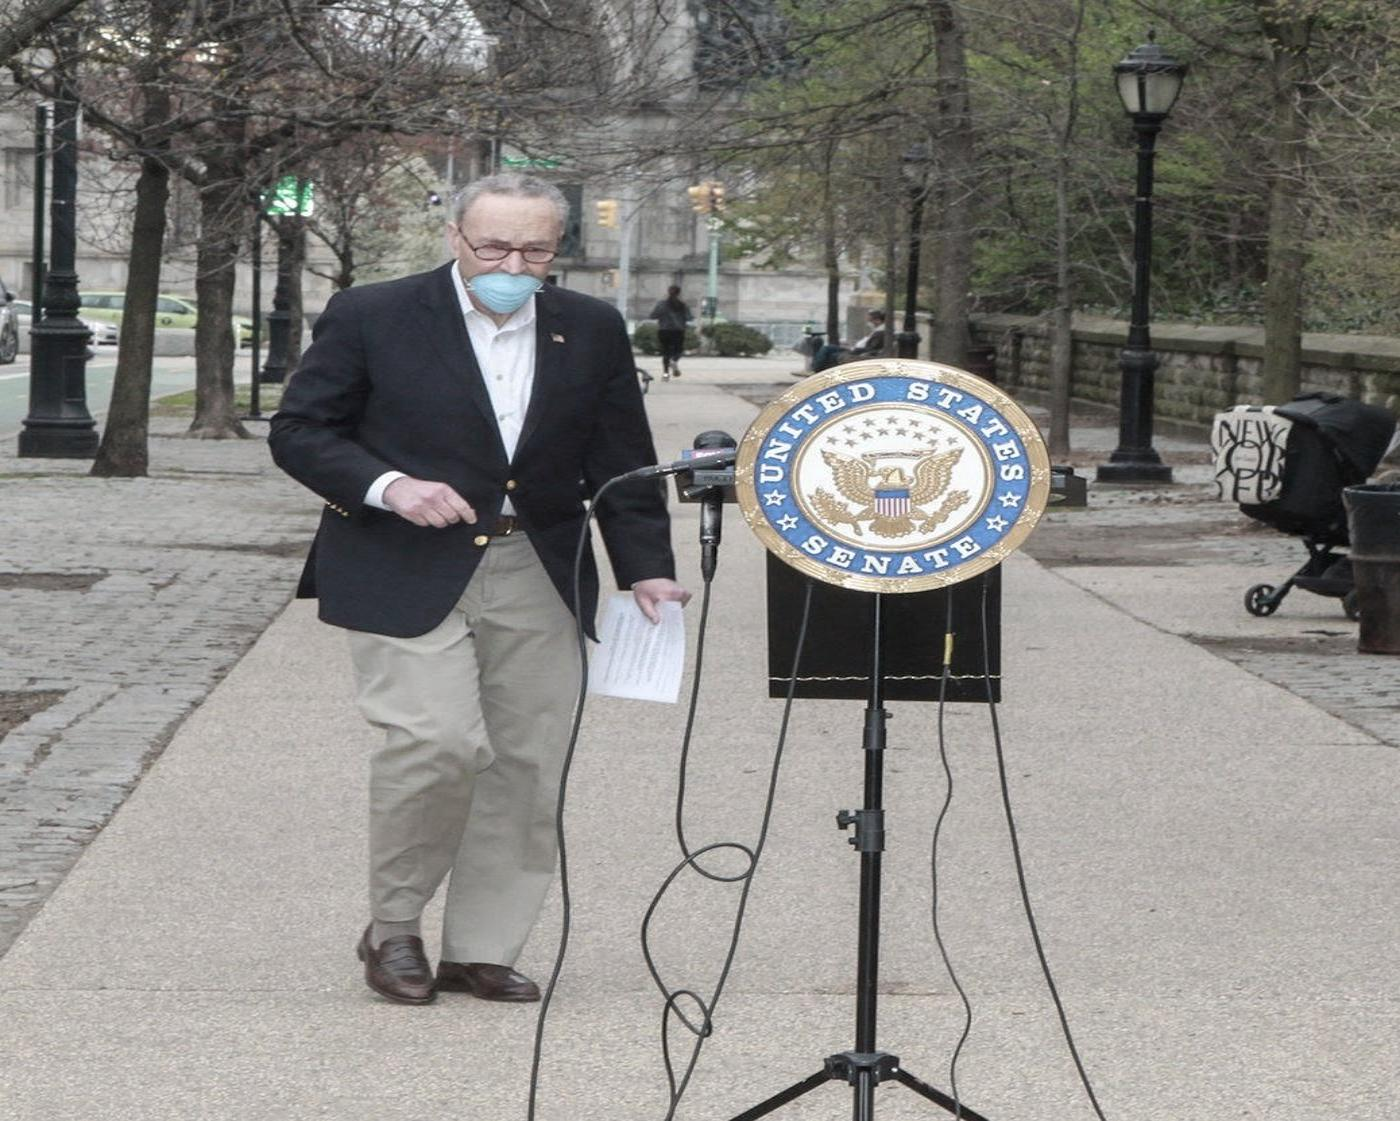mask_weared_incorrect: (442, 172, 571, 319)
